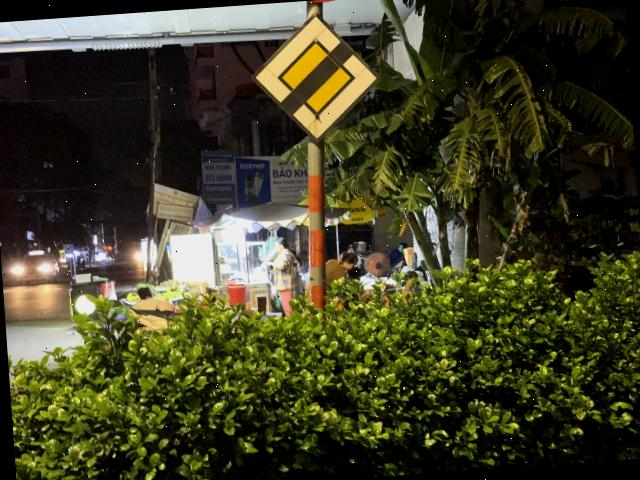het-duong-uu-tien: (248, 8, 384, 147)
